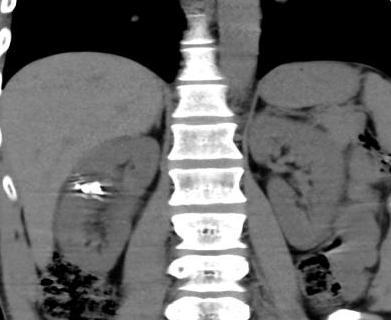Tas_Var: (88, 181, 108, 195), (81, 182, 91, 195), (74, 181, 80, 192)
